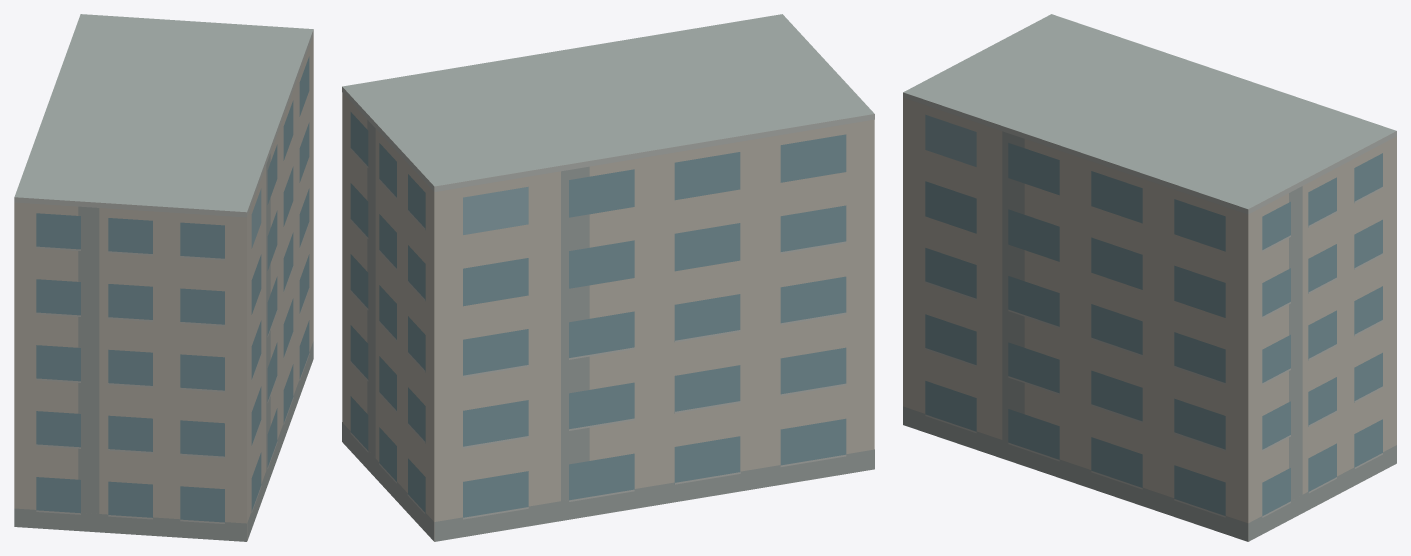
The model's file is residential-a29129bb-99fd-42c6-b635-6aca5dac0ca2.glb.
3 views of the same model, side by side, from view 1: azimuth 30°, elevation 25°; view 2: azimuth 150°, elevation 25°; view 3: azimuth 270°, elevation 25° (orthographic). The views are drawn at different scales.
Visible parts, largest first — view 1: residential-a29129bb-99fd-42c6-b635-6aca5dac0ca2.tmp; view 2: residential-a29129bb-99fd-42c6-b635-6aca5dac0ca2.tmp; view 3: residential-a29129bb-99fd-42c6-b635-6aca5dac0ca2.tmp.
Boxes of the visible parts, x1,y1,x2,y2 form: residential-a29129bb-99fd-42c6-b635-6aca5dac0ca2.tmp: (14, 14, 313, 541); residential-a29129bb-99fd-42c6-b635-6aca5dac0ca2.tmp: (342, 14, 874, 541); residential-a29129bb-99fd-42c6-b635-6aca5dac0ca2.tmp: (903, 14, 1396, 541).
Size of the model in its own units: 19.21 by 15.25 by 20.53.
